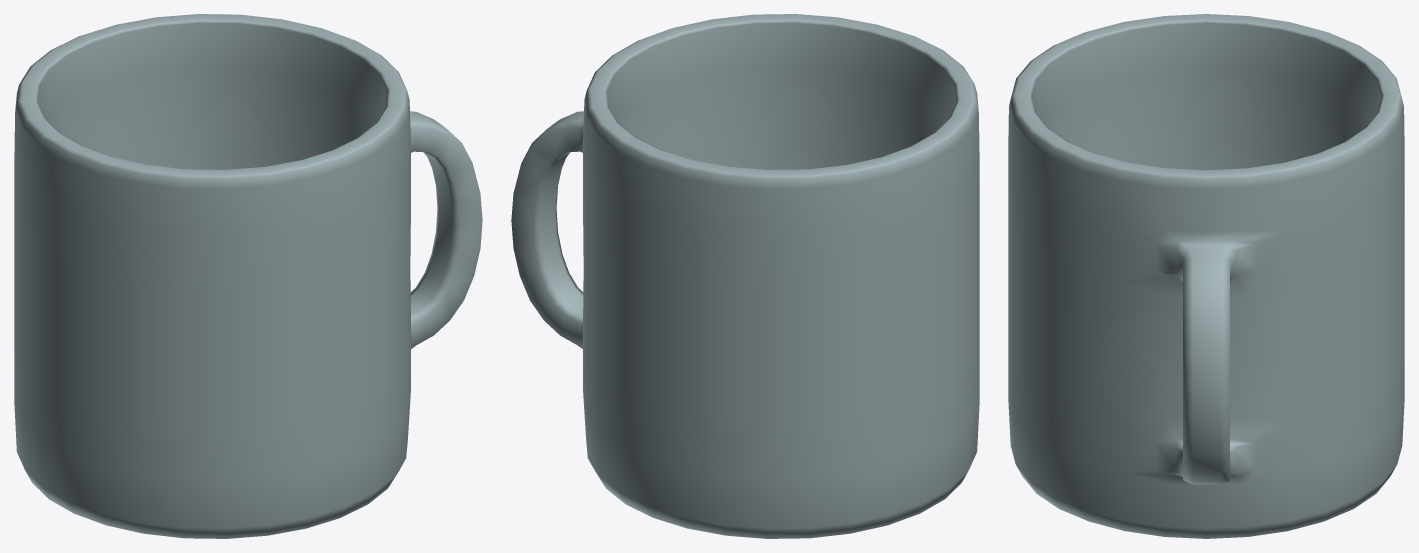
The model's file is mug_nonuv.fbx.
The picture shows the model from 3 angles, left to right: view 1: azimuth 30°, elevation 25°; view 2: azimuth 150°, elevation 25°; view 3: azimuth 270°, elevation 25°; orthographic projection.
Parts seen in each view (by area): view 1: cup1; view 2: cup1; view 3: cup1.
Part boxes in pixels (x1=…): cup1: x1=14, y1=14, x2=482, y2=538; cup1: x1=511, y1=14, x2=979, y2=538; cup1: x1=1008, y1=14, x2=1404, y2=538.
Size of the model in its own units: 0.1211 by 0.0997 by 0.0959.
